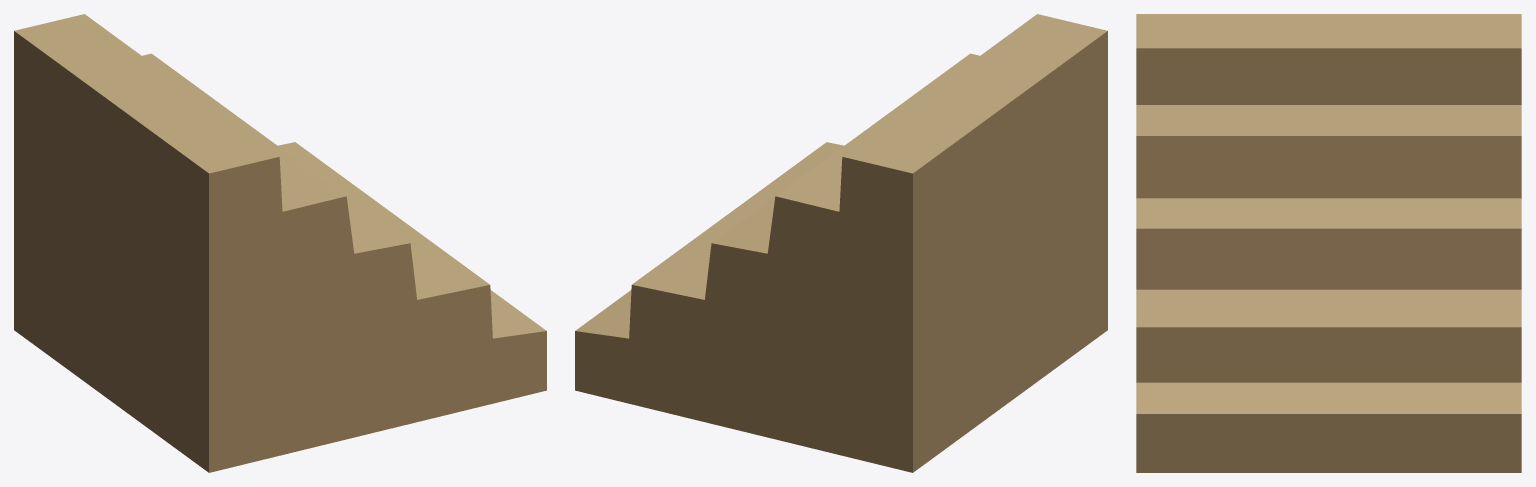
The model's file is stairs.fbx.
3 views of the same model, side by side, from view 1: azimuth 30°, elevation 25°; view 2: azimuth 150°, elevation 25°; view 3: azimuth 270°, elevation 25° (orthographic).
Visible parts, largest first — view 1: stairs; view 2: stairs; view 3: stairs.
Boxes of the visible parts, box(x1,y1,x2,y2) form: stairs: box(14, 14, 546, 472); stairs: box(575, 14, 1107, 472); stairs: box(1136, 14, 1521, 472).
Bounding box in the file's own units: 5 × 5 × 4.23.
